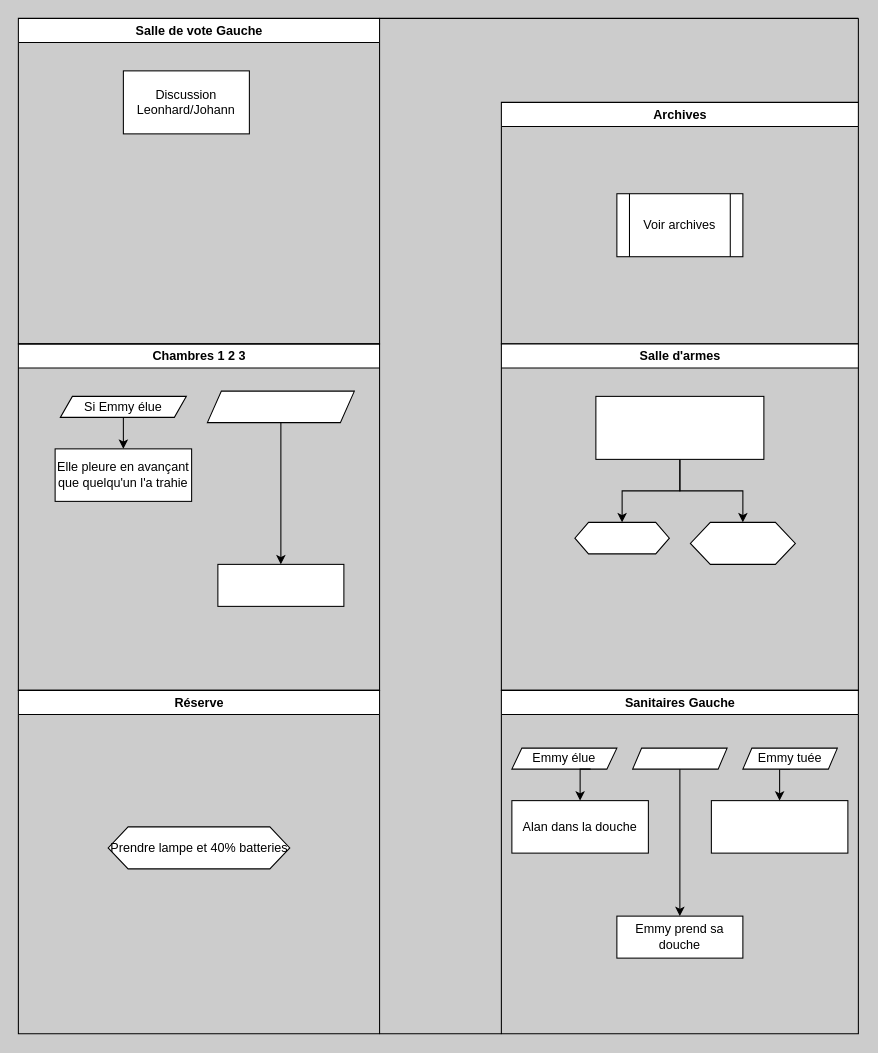
Image size: 878x1053. Some labels were removed from this diagram. The centre of each missing label's shape, as x and y in pixels:
Alan élu: pixel 679 758
Annonce qu'il dealait à Johann: pixel 280 584
Découvre que Isaac a pris un couteau Il nous propose de faire pareil: pixel 679 427
En prendre: pixel 621 537
Gisant par terre, on voit la bombe: pixel 779 826
Ne pas en prendre: pixel 742 542
Sinon (Alan élu ou Alan a tué Emmy): pixel 280 406
